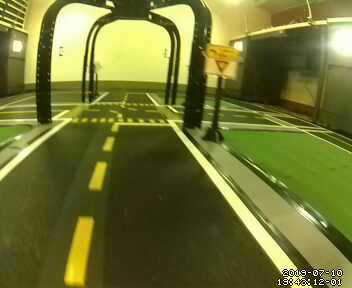Turn Yield: (204, 42, 239, 81)
